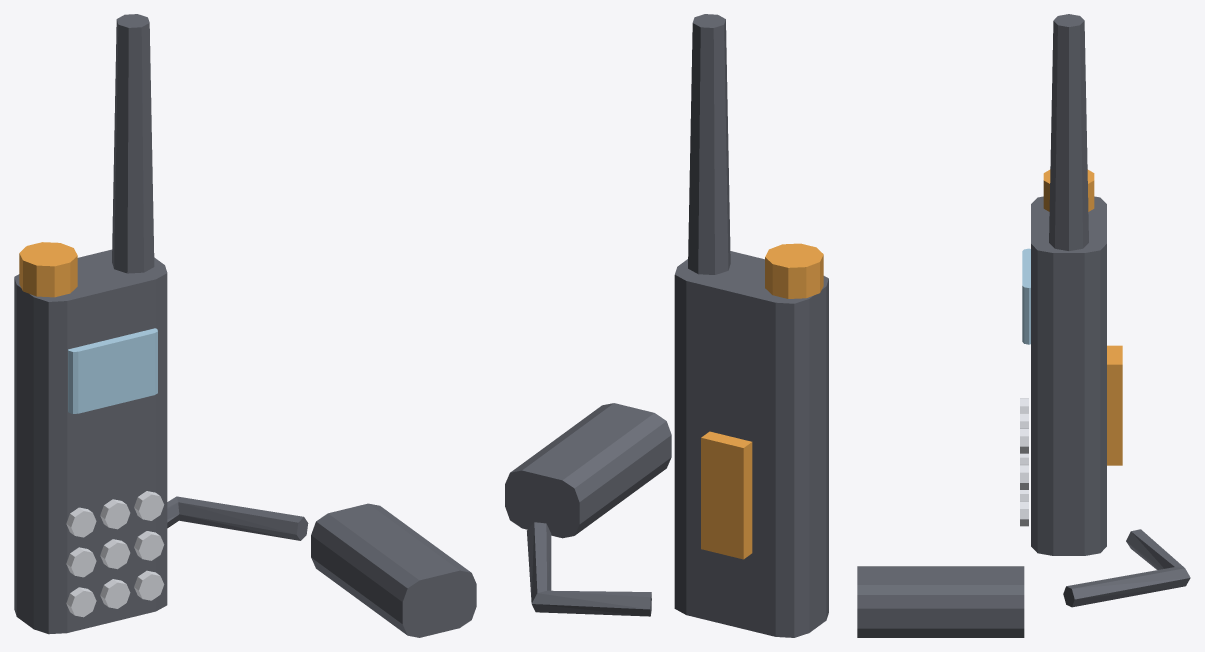
The model's file is backcountry-snowboarding-and-avalanche-safety-two-way--c0d3579b__18937.glb.
The picture shows the model from 3 angles, left to right: view 1: azimuth 30°, elevation 25°; view 2: azimuth 150°, elevation 25°; view 3: azimuth 270°, elevation 25°; orthographic projection. The views are drawn at different scales.
Parts seen in each view (by area): view 1: two-way-radio; view 2: two-way-radio; view 3: two-way-radio.
Boxes of the visible parts, x1,y1,x2,y2 form: two-way-radio: (14, 14, 476, 637); two-way-radio: (505, 14, 828, 637); two-way-radio: (857, 14, 1190, 637).
Bounding box in the file's own units: 0.1595 × 0.26 × 0.1496.
